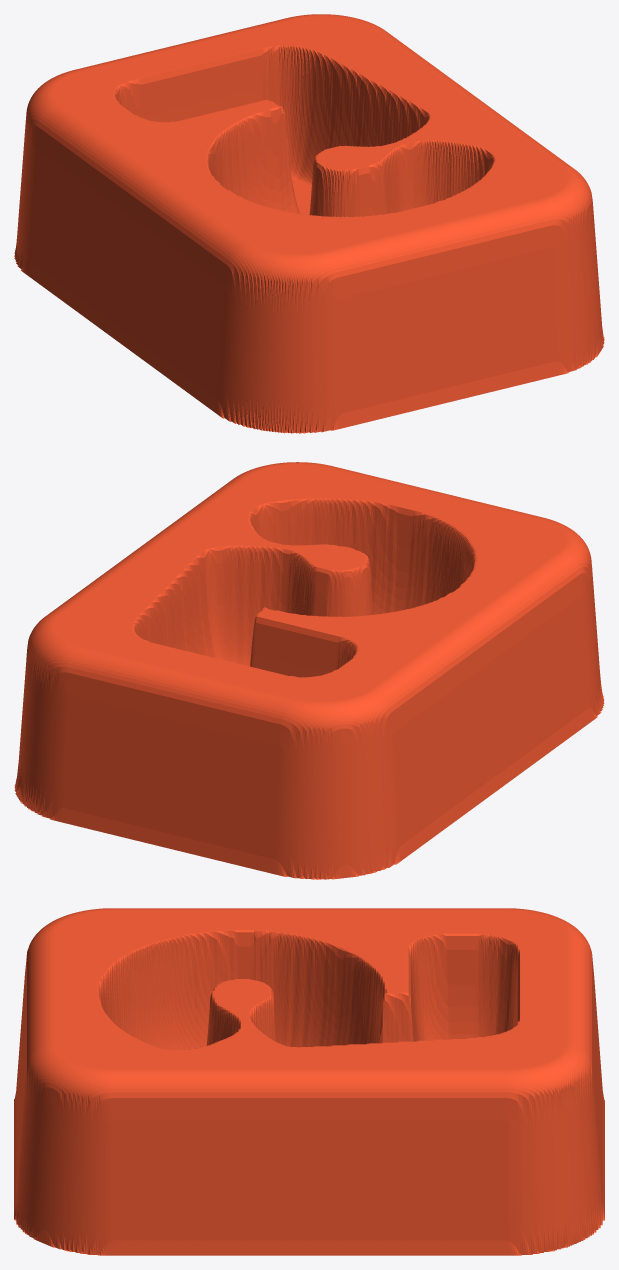
File: mold.glb
3 views of the same model, one above another, from view 1: azimuth 30°, elevation 25°; view 2: azimuth 150°, elevation 25°; view 3: azimuth 270°, elevation 25° (orthographic). The views are drawn at different scales.
Parts seen in each view (by area): view 1: geometry_0; view 2: geometry_0; view 3: geometry_0.
Part boxes in pixels (x1,y1,x2,y2): geometry_0: (14, 14, 604, 433); geometry_0: (14, 462, 604, 879); geometry_0: (14, 908, 604, 1255).
Bounding box in the file's own units: 0.0416 × 0.0172 × 0.0542.
